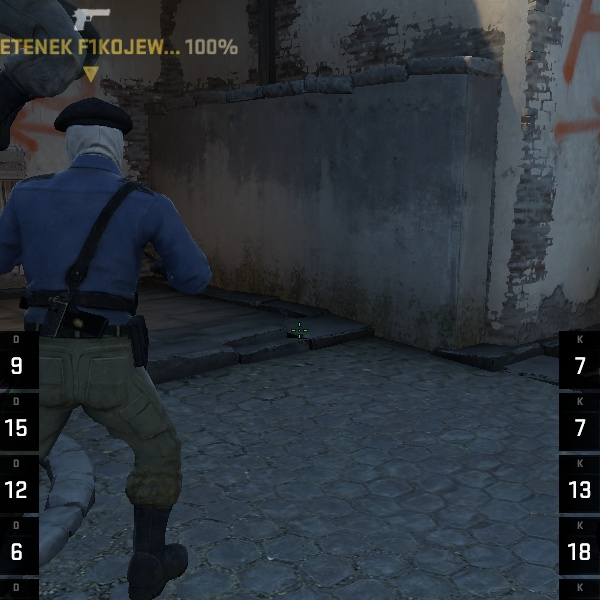ct_body: (5, 85, 234, 580)
